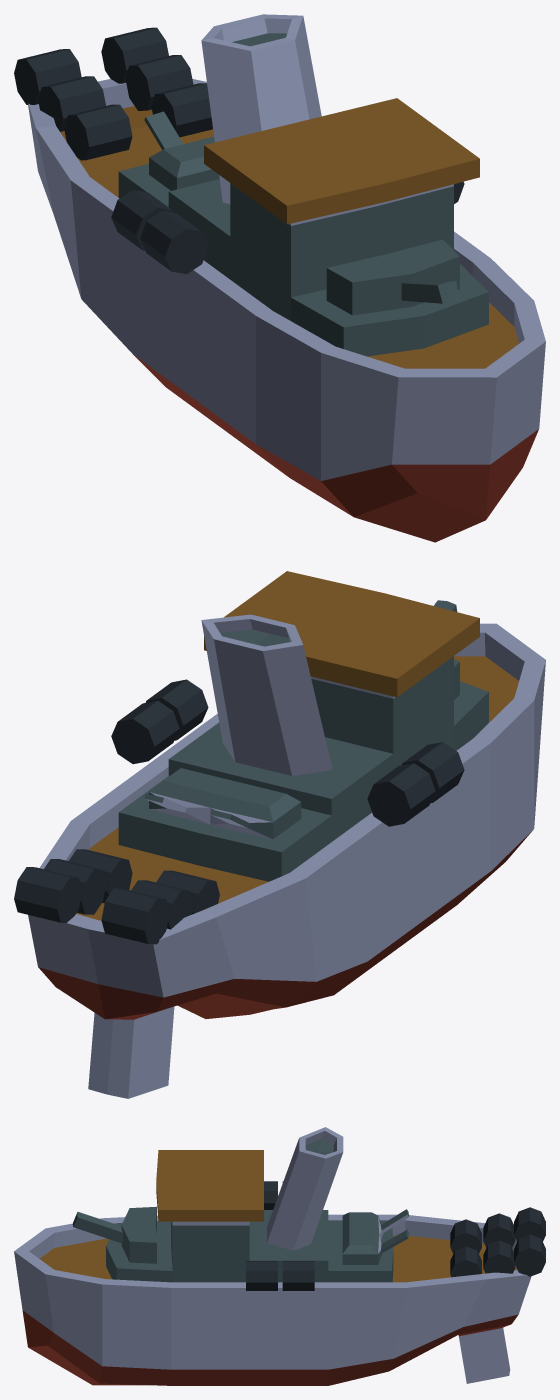
The model's file is destroyer.fbx.
3 renders of one model, top to bottom at view 1: azimuth 30°, elevation 25°; view 2: azimuth 150°, elevation 25°; view 3: azimuth 270°, elevation 25°, orthographic. The views are drawn at different scales.
Visible parts, largest first — view 1: destroyer; view 2: destroyer; view 3: destroyer.
Part boxes in pixels (left/top/right/bottom): destroyer: left=14, top=14, right=545, bottom=542; destroyer: left=14, top=571, right=545, bottom=1098; destroyer: left=14, top=1127, right=545, bottom=1385.
Size of the model in its own units: 93.38 by 113 by 226.
